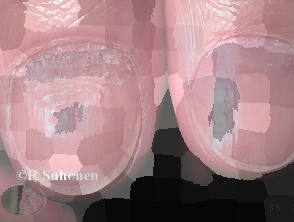Nail_psoriasis: (2, 32, 152, 206), (174, 17, 294, 181)
